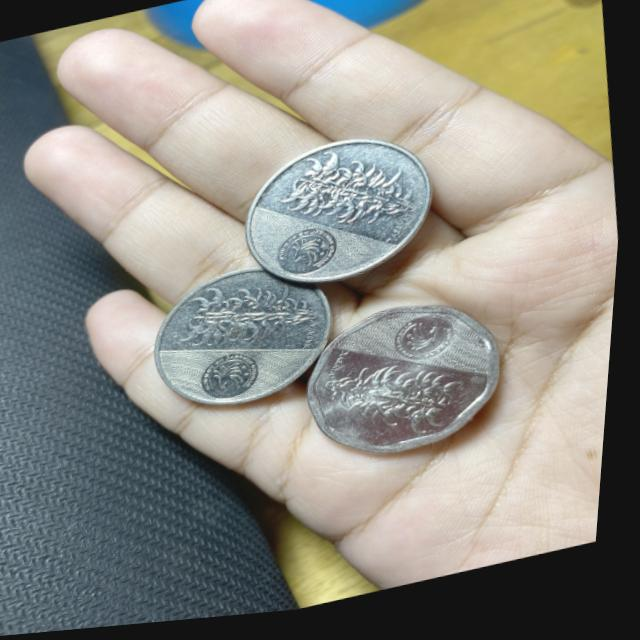5_New_Back: (276, 141, 425, 258), (324, 359, 470, 458), (177, 265, 319, 361)
